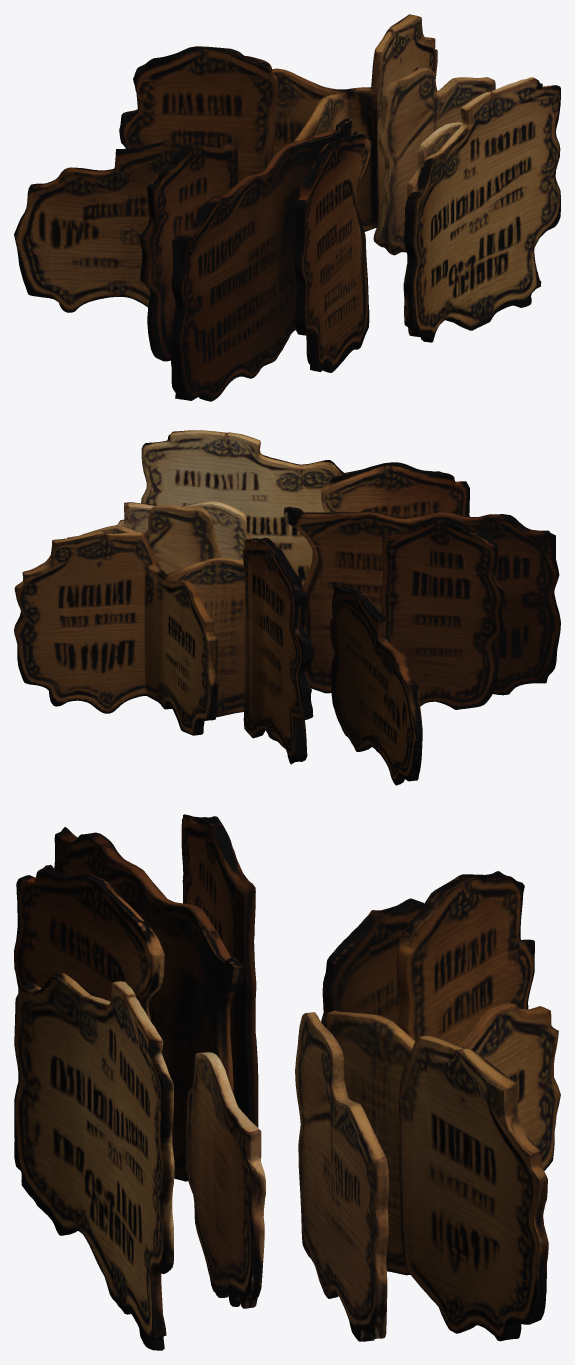
The model's file is wooden-garden-labels-horror.jpeg.glb.
3 renders of one model, top to bottom at view 1: azimuth 30°, elevation 25°; view 2: azimuth 150°, elevation 25°; view 3: azimuth 270°, elevation 25°, orthographic. The views are drawn at different scales.
Parts seen in each view (by area): view 1: world; view 2: world; view 3: world.
Part boxes in pixels (box(x1,y1,x2,y2)): world: box(14, 14, 560, 401); world: box(14, 430, 560, 785); world: box(14, 814, 560, 1350).
Bounding box in the file's own units: 1 × 0.5034 × 0.7654.
1 material, 1 textured.
